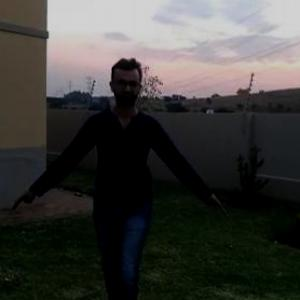land: (33, 62, 204, 292)
